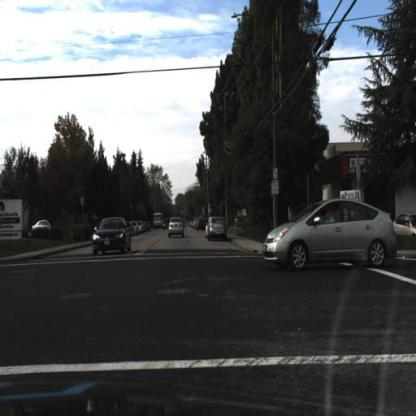car: (263, 195, 404, 281), (89, 209, 133, 263), (391, 205, 416, 245), (203, 214, 229, 244), (165, 214, 190, 243), (30, 213, 61, 234), (35, 216, 62, 235)
